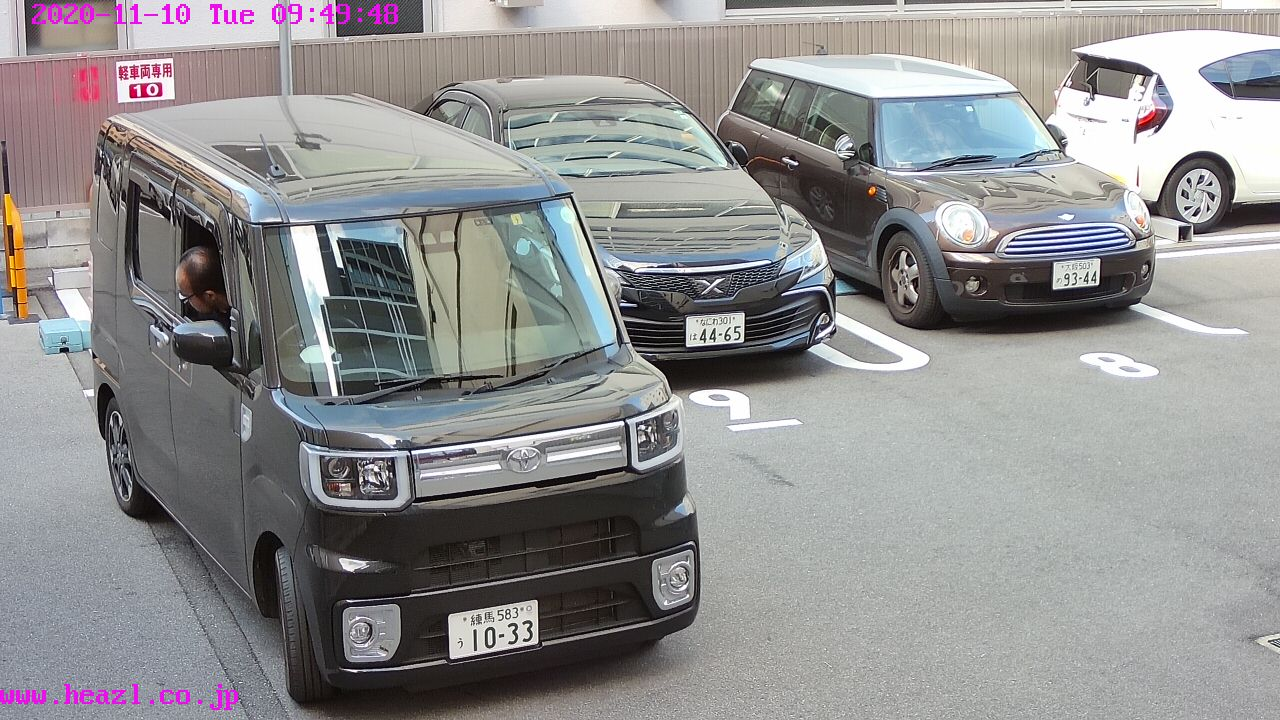number_plate: (451, 603, 539, 645), (685, 311, 745, 344), (1051, 259, 1102, 289)
